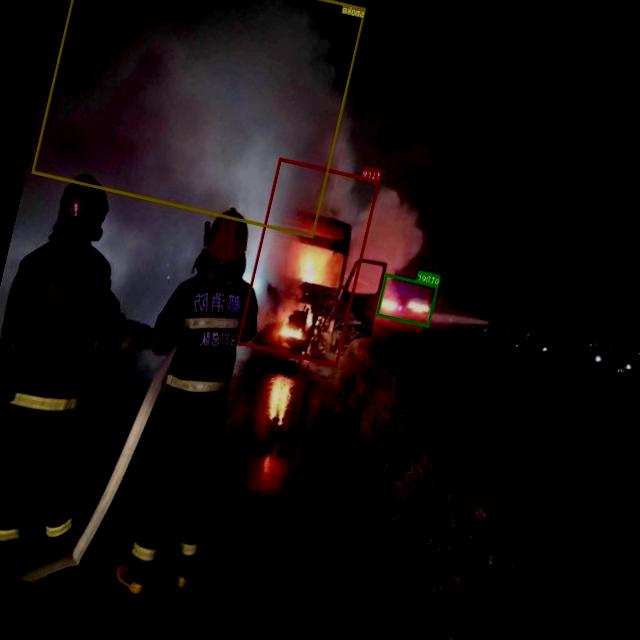fire: (237, 157, 380, 366)
smoke: (31, 0, 366, 237)
